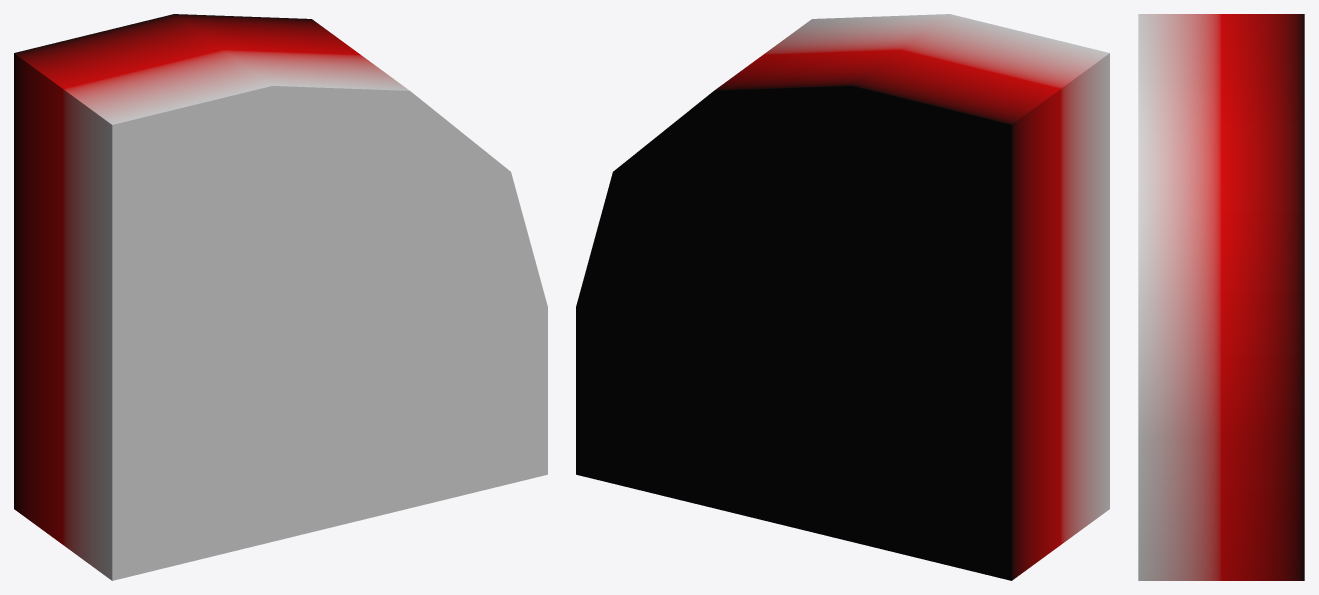
Rendered from curbstone.fbx.
The picture shows the model from 3 angles, left to right: view 1: azimuth 30°, elevation 25°; view 2: azimuth 150°, elevation 25°; view 3: azimuth 270°, elevation 25°; orthographic projection. The views are drawn at different scales.
Parts seen in each view (by area): view 1: Plane; view 2: Plane; view 3: Plane.
Boxes of the visible parts, box(x1,y1,x2,y2) form: Plane: box(14, 14, 547, 580); Plane: box(576, 14, 1109, 580); Plane: box(1138, 14, 1304, 580).
Size of the model in its own units: 2 by 2 by 0.7811.
